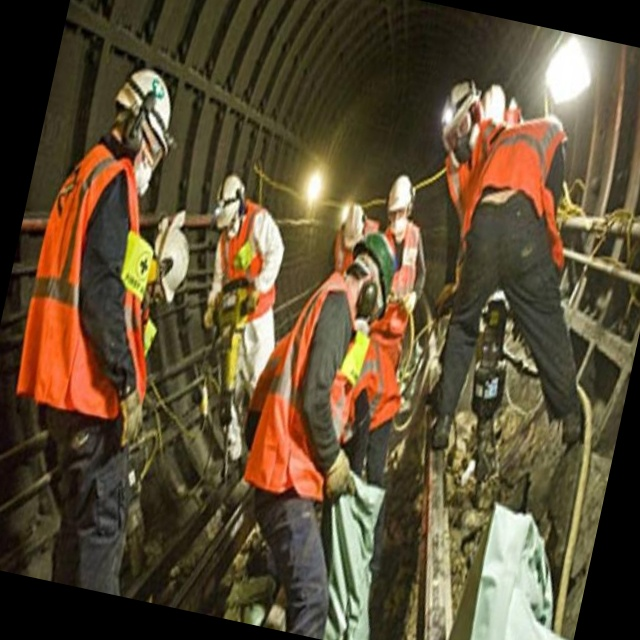Con_Chaleco: (16, 150, 183, 412), (249, 273, 376, 497)
